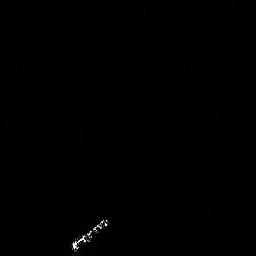ship: (70, 218, 111, 256)
